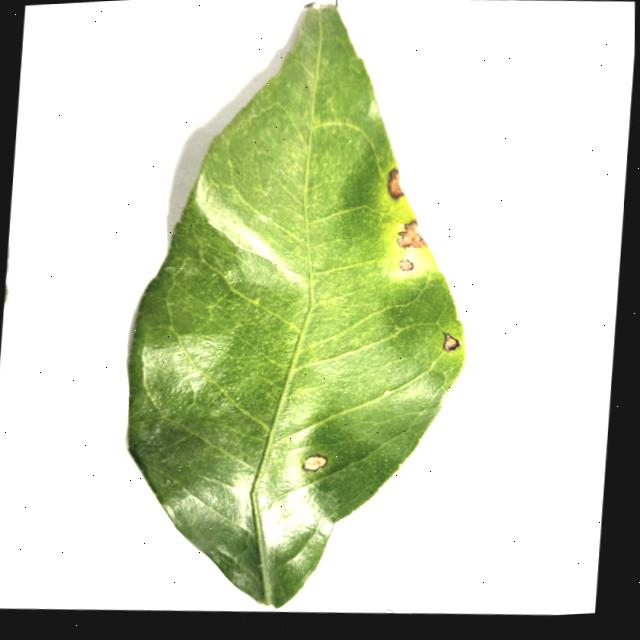antracnose: (129, 2, 465, 607), (399, 220, 427, 247), (388, 168, 404, 197), (303, 454, 327, 470), (443, 332, 459, 350), (399, 257, 415, 270)
